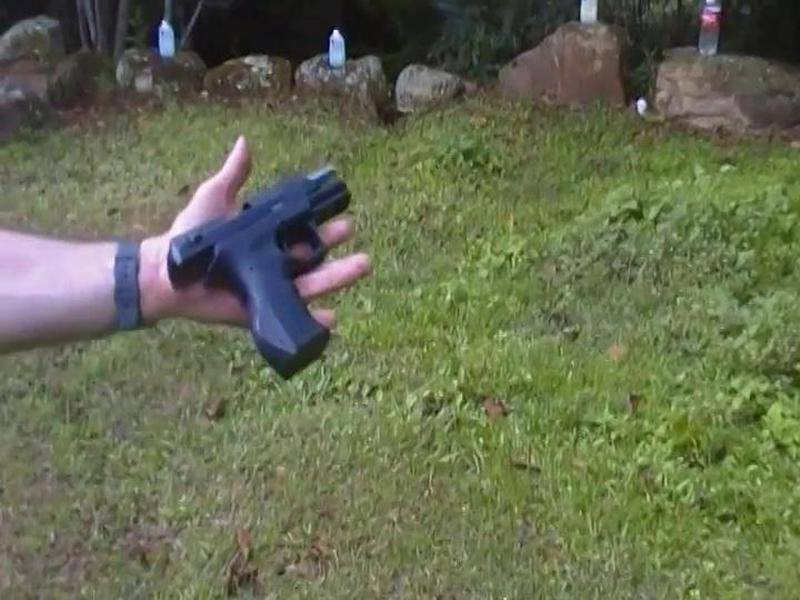Pistola: (157, 157, 395, 382)
